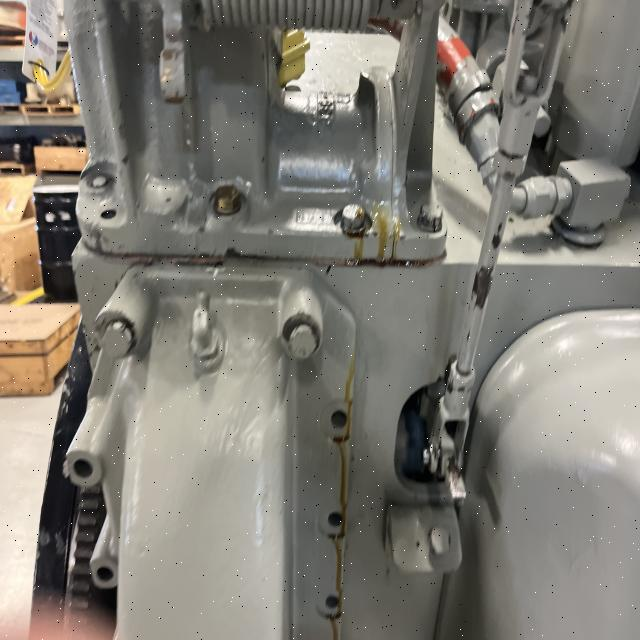Oil Leak: (320, 350, 355, 640), (333, 203, 447, 267)
